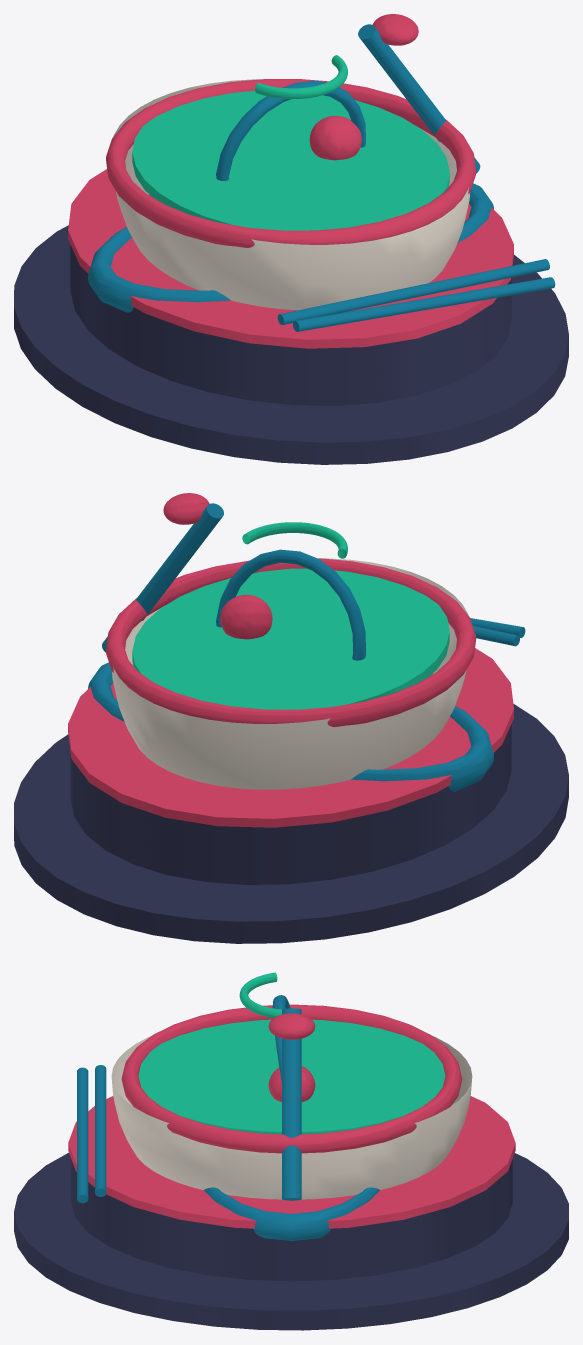
Rendered from 0335_揭秘食物图鉴_鲱鱼罐头.glb.
3 views of the same model, one above another, from view 1: azimuth 30°, elevation 25°; view 2: azimuth 150°, elevation 25°; view 3: azimuth 270°, elevation 25° (orthographic). The views are drawn at different scales.
Visible parts, largest first — view 1: card_0335; view 2: card_0335; view 3: card_0335.
Boxes of the visible parts, bbox=[...] form: card_0335: bbox=[14, 14, 568, 464]; card_0335: bbox=[14, 493, 568, 943]; card_0335: bbox=[14, 972, 568, 1330].
Bounding box in the file's own units: 1.63 × 1 × 1.93.
